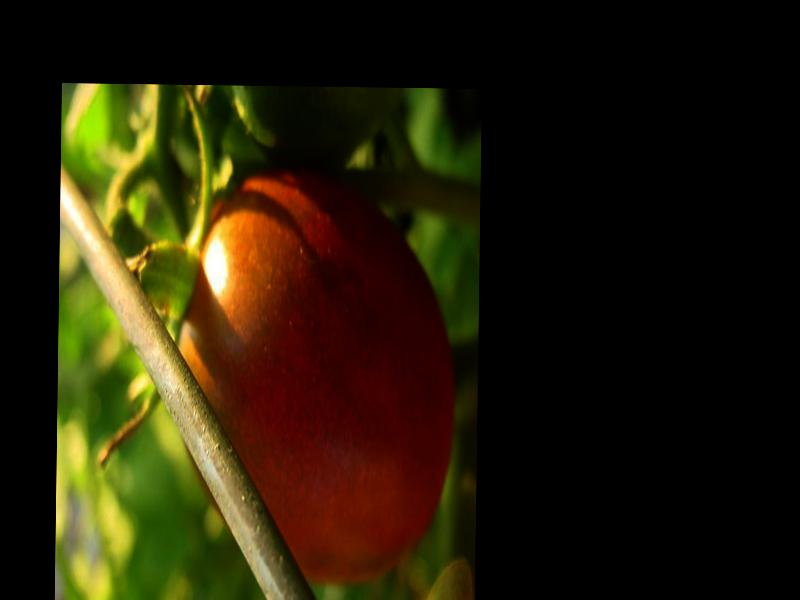Tomato: (176, 171, 456, 578)
